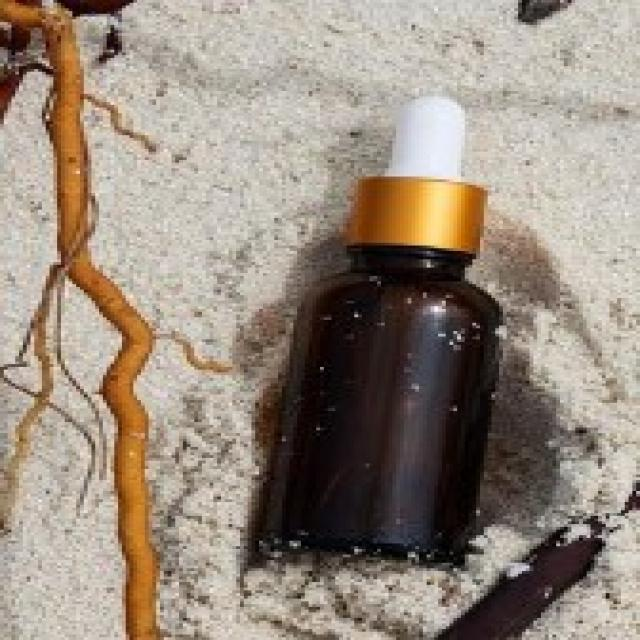electronic: (252, 96, 502, 579)
